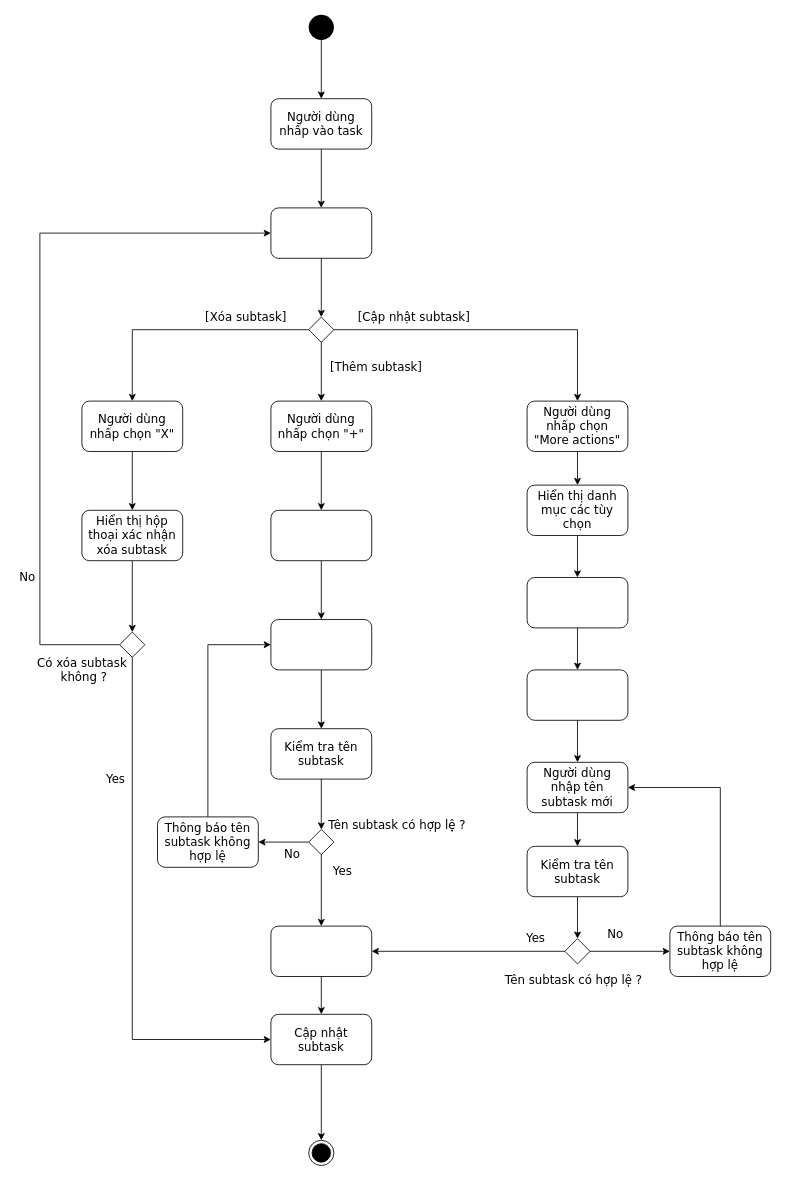
Some shapes in this 785 by 1180 pixel diagram are drawn without their labels. The shapes that lost their labels are listed below. From the top down, each one's box as (x1, y1, x2, y2) in pixels, then its label:
(270, 207, 372, 258): Hiển thị danh sách các subtask
(270, 509, 372, 561): Hiển thị giao diện tạo mới subtask
(526, 577, 628, 628): Người dùng nhấp chọn "Update"
(270, 619, 372, 670): Người dùng nhập tên subtask
(526, 669, 628, 720): HIển thị giao diện cập nhật subtask
(270, 925, 372, 976): Nhấp "Save"
